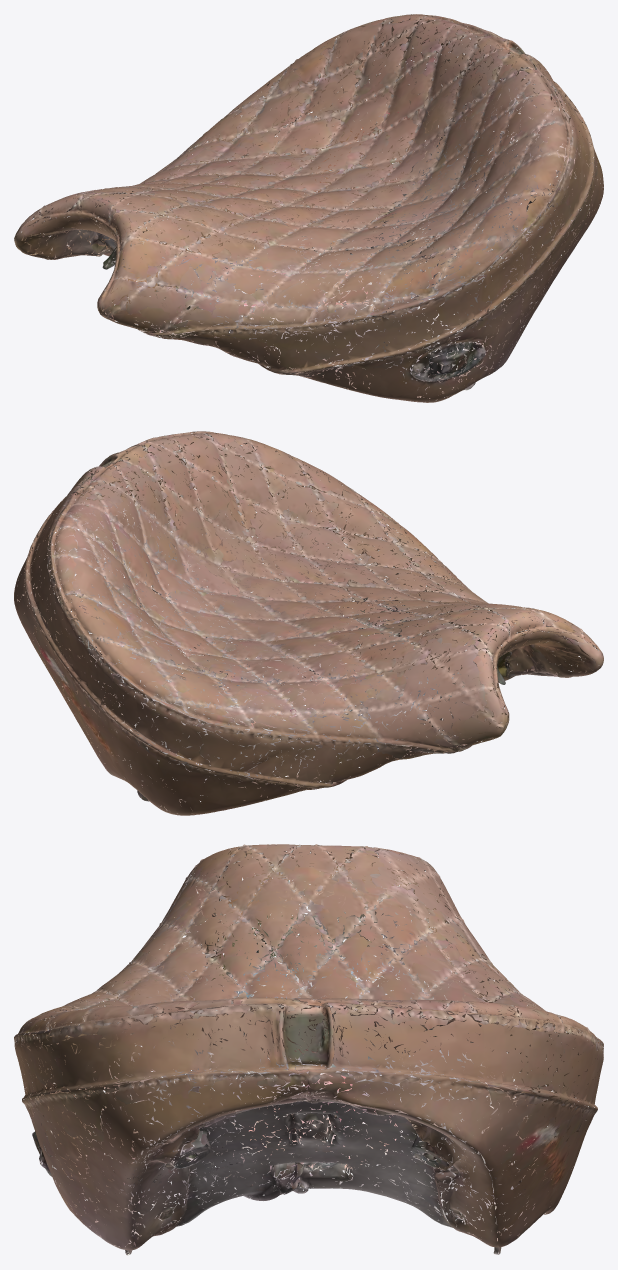
File: sella_corbin.glb
3 renders of one model, top to bottom at view 1: azimuth 30°, elevation 25°; view 2: azimuth 150°, elevation 25°; view 3: azimuth 270°, elevation 25°, orthographic. The views are drawn at different scales.
Visible parts, largest first — view 1: ricambio; view 2: ricambio; view 3: ricambio.
Part boxes in pixels (box(x1,y1,x2,y2)): ricambio: box(14, 14, 603, 402); ricambio: box(14, 431, 603, 815); ricambio: box(14, 844, 603, 1255).
Bounding box in the file's own units: 0.5 × 0.2529 × 0.4176.
Materials: 1 (1 with a texture image).
